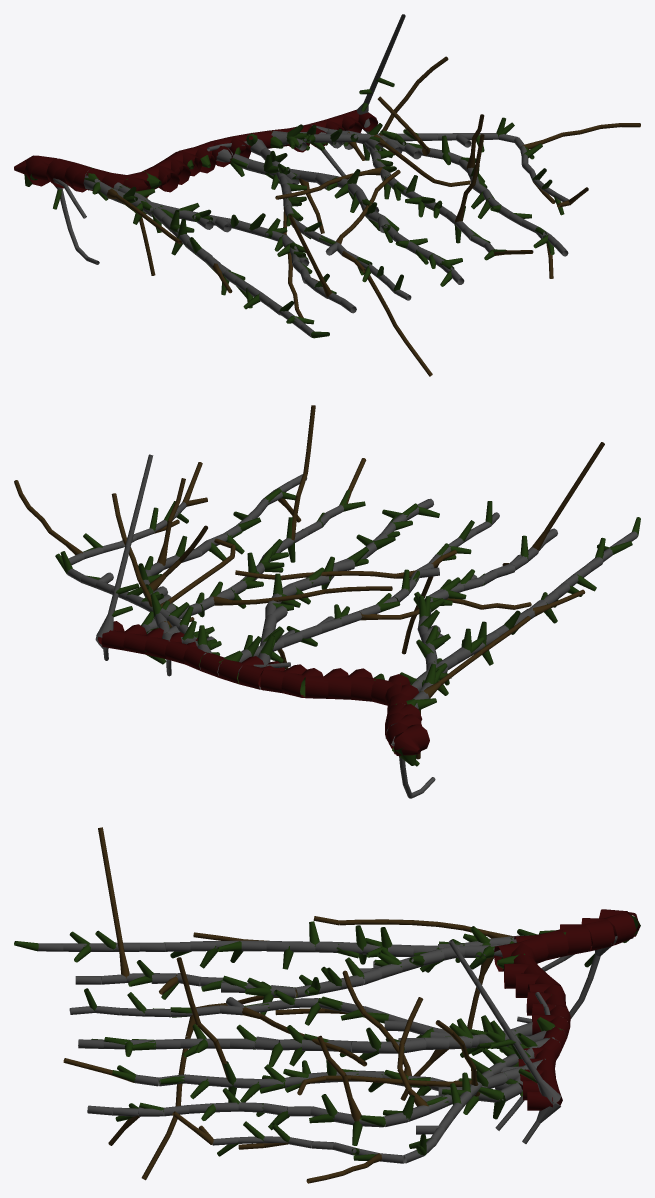
Rendered from tree_3.obj.
3 views of the same model, one above another, from view 1: azimuth 30°, elevation 25°; view 2: azimuth 150°, elevation 25°; view 3: azimuth 270°, elevation 25° (orthographic). The views are drawn at different scales.
Size of the model in its own units: 27.17 by 12.92 by 24.55.
